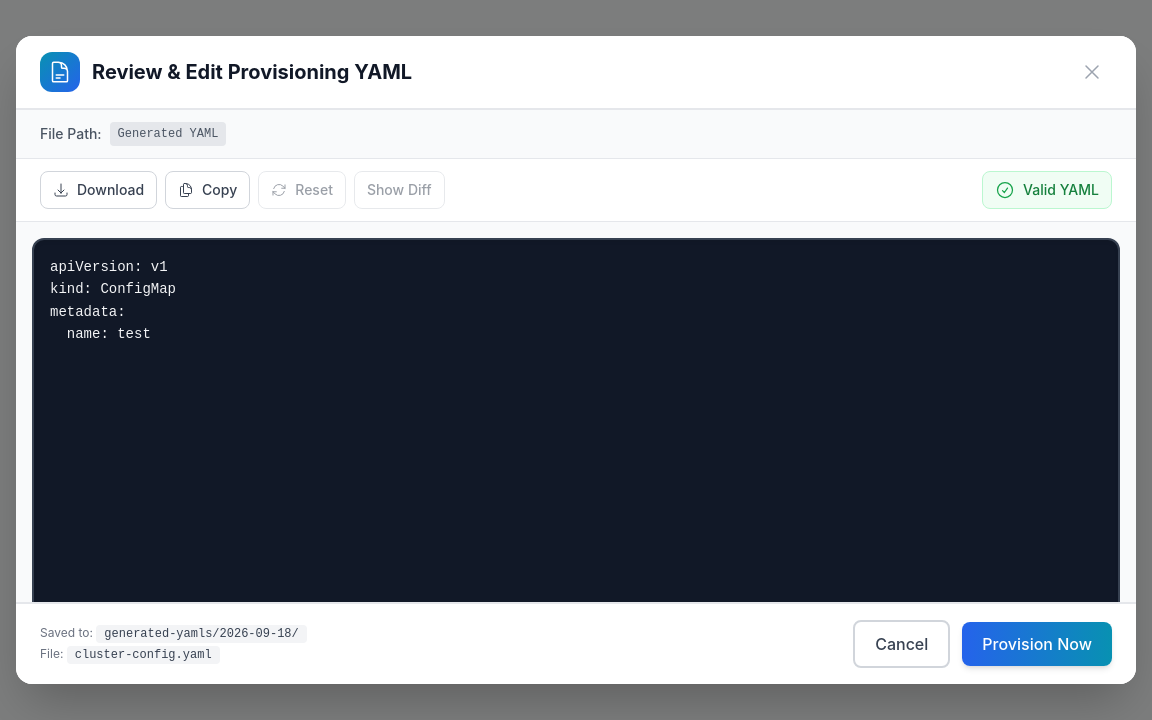
it: YamlEditorModal › shows Copied! message after successful copy
Click the button "Copy" at (208, 190), box x1=165 y1=171 x2=250 y2=209
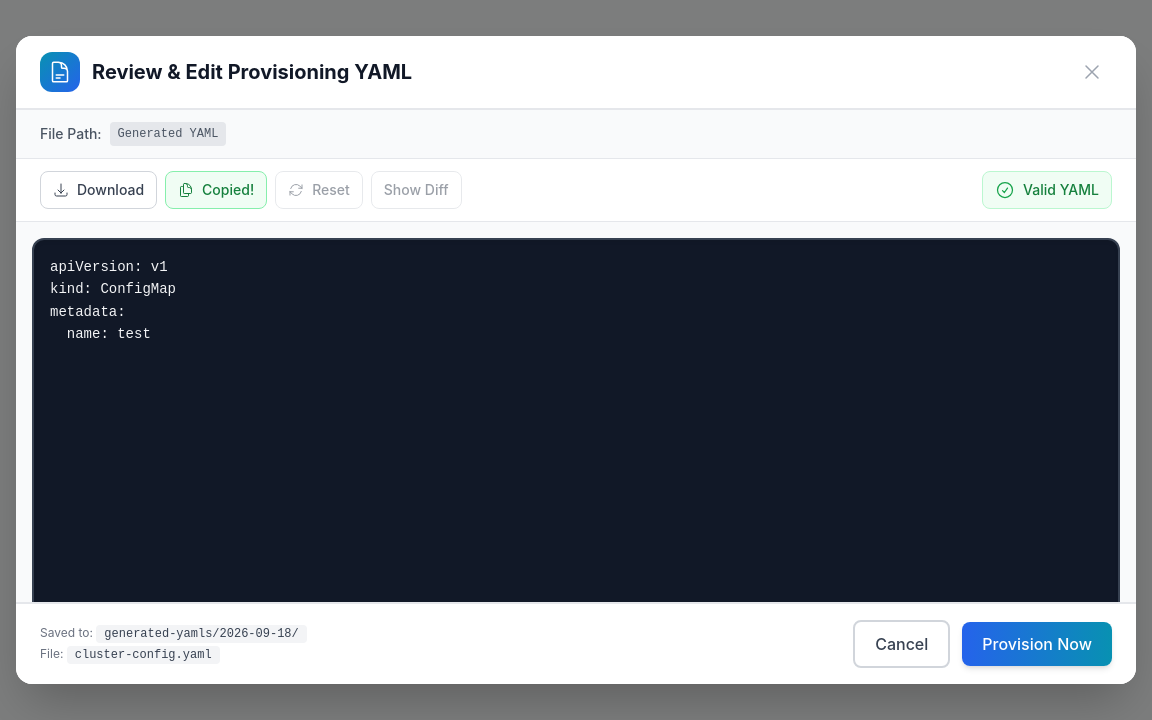
Result: the button "Copied!" is shown at x1=165 y1=171 x2=267 y2=209
